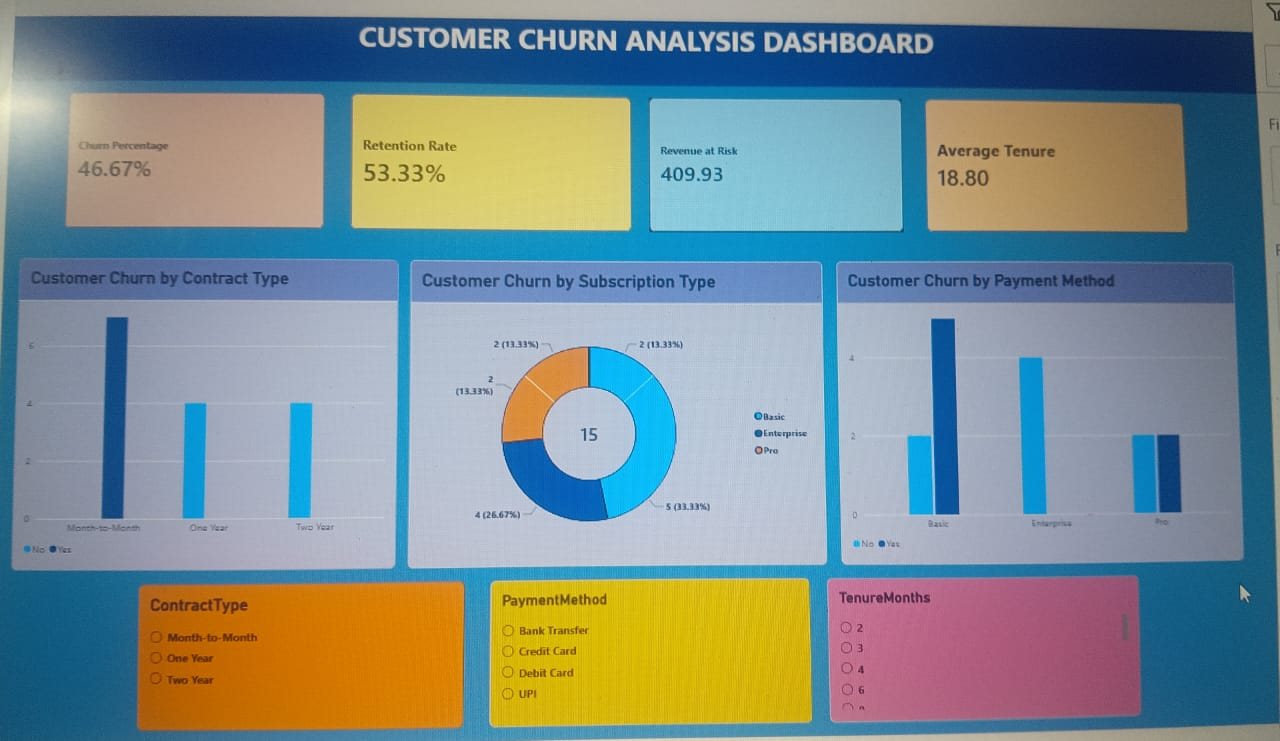

This screenshot's page, from the dashboard's own definition file:
{"tool":"powerbi","page":{"name":"Page 1","canvas":[1920,1080],"ordinal":0},"visuals":[{"type":"textbox","box":[0,0,1920.4,100.9],"z":0},{"type":"cardVisual","fields":{"Data":["customer_churn_sample.Churn Percentage"]},"box":[88.5,119.4,382.8,205.8],"z":1},{"type":"cardVisual","fields":{"Data":["customer_churn_sample.Retention Rate"]},"box":[510.5,119.4,422,205.8],"z":2},{"type":"cardVisual","fields":{"Data":["customer_churn_sample.Average Tenure"]},"box":[1385.3,119.4,411.7,205.8],"z":4},{"type":"clusteredColumnChart","title":"Customer Churn by Contract Type","fields":{"Category":["customer_churn_sample.ContractType"],"Series":["customer_churn_sample.Churn"],"Y":["CountNonNull(customer_churn_sample.CustomerID)"]},"box":[24.7,370.5,555.7,459],"z":6},{"type":"donutChart","title":"Customer Churn by Subscription Type","fields":{"Category":["customer_churn_sample.SubscriptionType"],"Series":["customer_churn_sample.Churn"],"Y":["CountNonNull(customer_churn_sample.CustomerID)"]},"box":[599,370.5,623.7,459],"z":7},{"type":"clusteredColumnChart","title":"Customer Churn by Payment Method ","fields":{"Category":["customer_churn_sample.SubscriptionType"],"Series":["customer_churn_sample.Churn"],"Y":["CountNonNull(customer_churn_sample.CustomerID)"]},"box":[1245.3,370.5,621.6,459],"z":8},{"type":"cardVisual","fields":{"Data":["customer_churn_sample.Revenue at Risk"]},"box":[959.2,119.4,389,205.8],"z":10},{"type":"listSlicer","fields":{"Values":["customer_churn_sample.ContractType"]},"box":[212,850.1,469.3,209.9],"z":11},{"type":"listSlicer","fields":{"Values":["customer_churn_sample.PaymentMethod"]},"box":[720.4,850.1,475.5,209.9],"z":12},{"type":"listSlicer","fields":{"Values":["customer_churn_sample.TenureMonths"]},"box":[1222.6,850.1,475.5,209.9],"z":13}]}

Visuals, with their boxes in screenshot pixels (x1, y1, x2, y2), scaled from the page's 1920x1080 canvas onto the 1280x741 screenshot:
textbox: bbox(0, 0, 1279, 69)
cardVisual - customer_churn_sample.Churn Percentage: bbox(59, 82, 314, 223)
cardVisual - customer_churn_sample.Retention Rate: bbox(340, 82, 622, 223)
cardVisual - customer_churn_sample.Average Tenure: bbox(924, 82, 1198, 223)
"Customer Churn by Contract Type" clusteredColumnChart: bbox(16, 254, 387, 569)
"Customer Churn by Subscription Type" donutChart: bbox(399, 254, 815, 569)
"Customer Churn by Payment Method " clusteredColumnChart: bbox(830, 254, 1245, 569)
cardVisual - customer_churn_sample.Revenue at Risk: bbox(639, 82, 899, 223)
listSlicer - customer_churn_sample.ContractType: bbox(141, 583, 454, 727)
listSlicer - customer_churn_sample.PaymentMethod: bbox(480, 583, 797, 727)
listSlicer - customer_churn_sample.TenureMonths: bbox(815, 583, 1132, 727)
